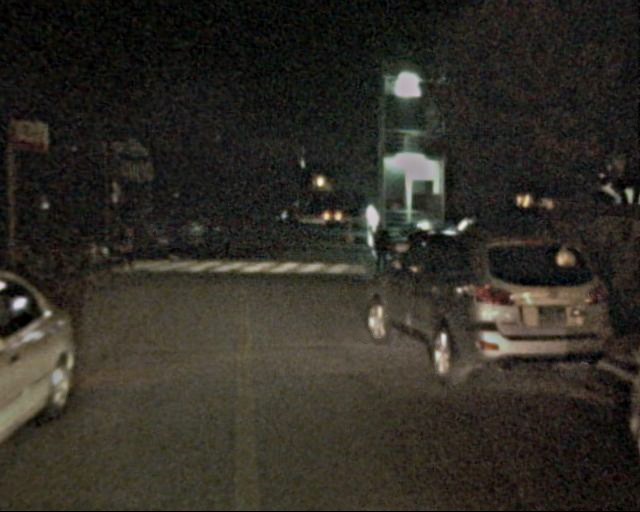person: (370, 223, 394, 281), (115, 216, 138, 273), (167, 218, 180, 256)
